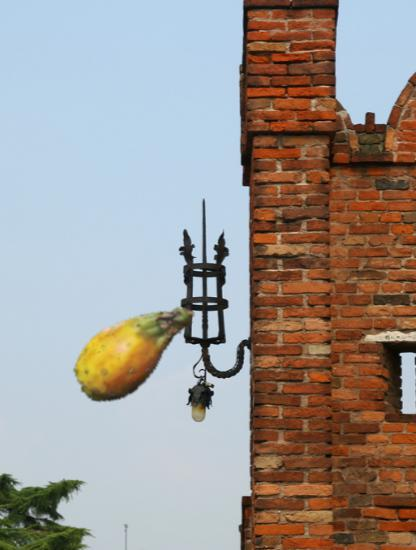Cactus: (65, 279, 205, 419)
